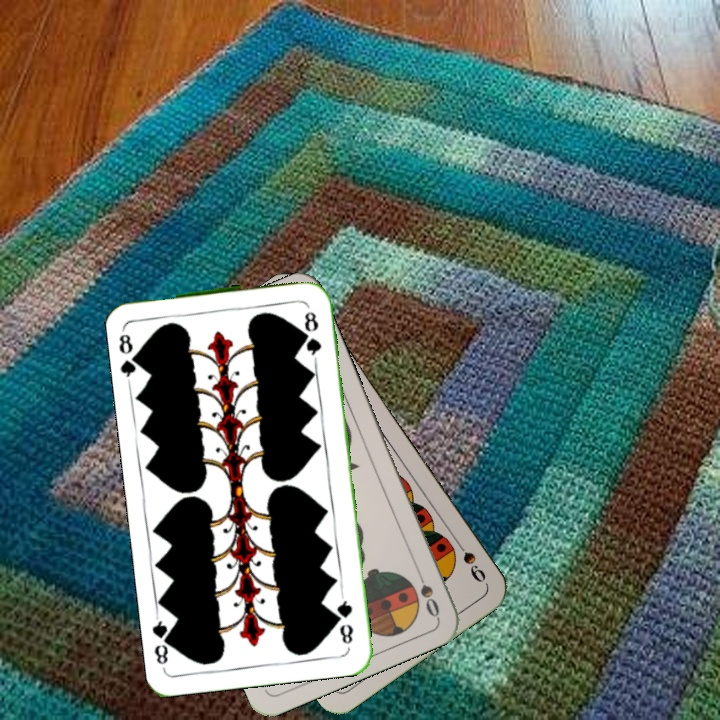G8: (115, 324, 145, 383), (332, 590, 356, 647)
S9: (449, 534, 489, 586)
SO: (411, 563, 442, 620)
